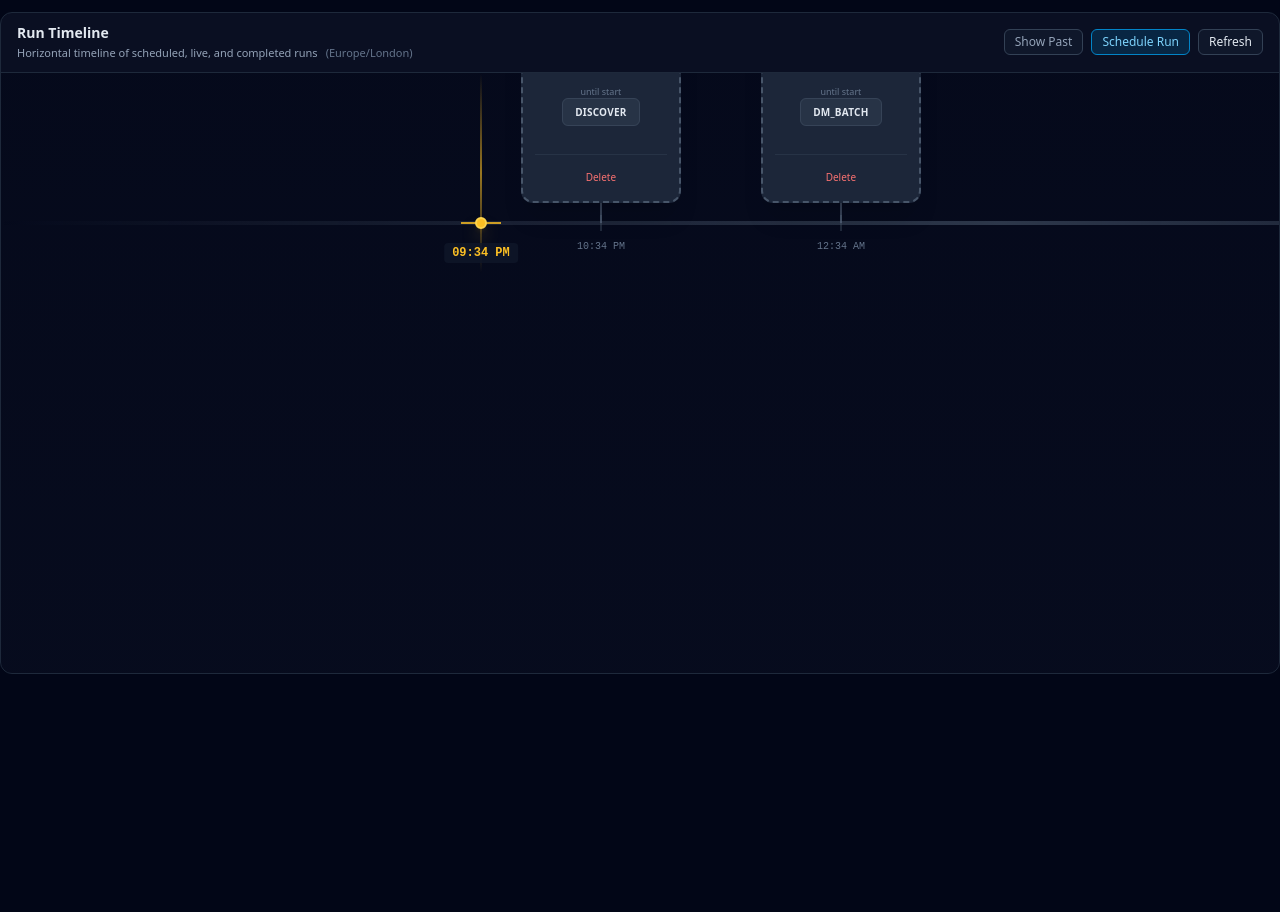
Test case: TimelineCarousel › Show Past Toggle › shows past runs when toggle is enabled
The width and height of the screenshot is (1280, 912).
Click the button "Show Past" at (1044, 42), box [1004, 29, 1083, 55]
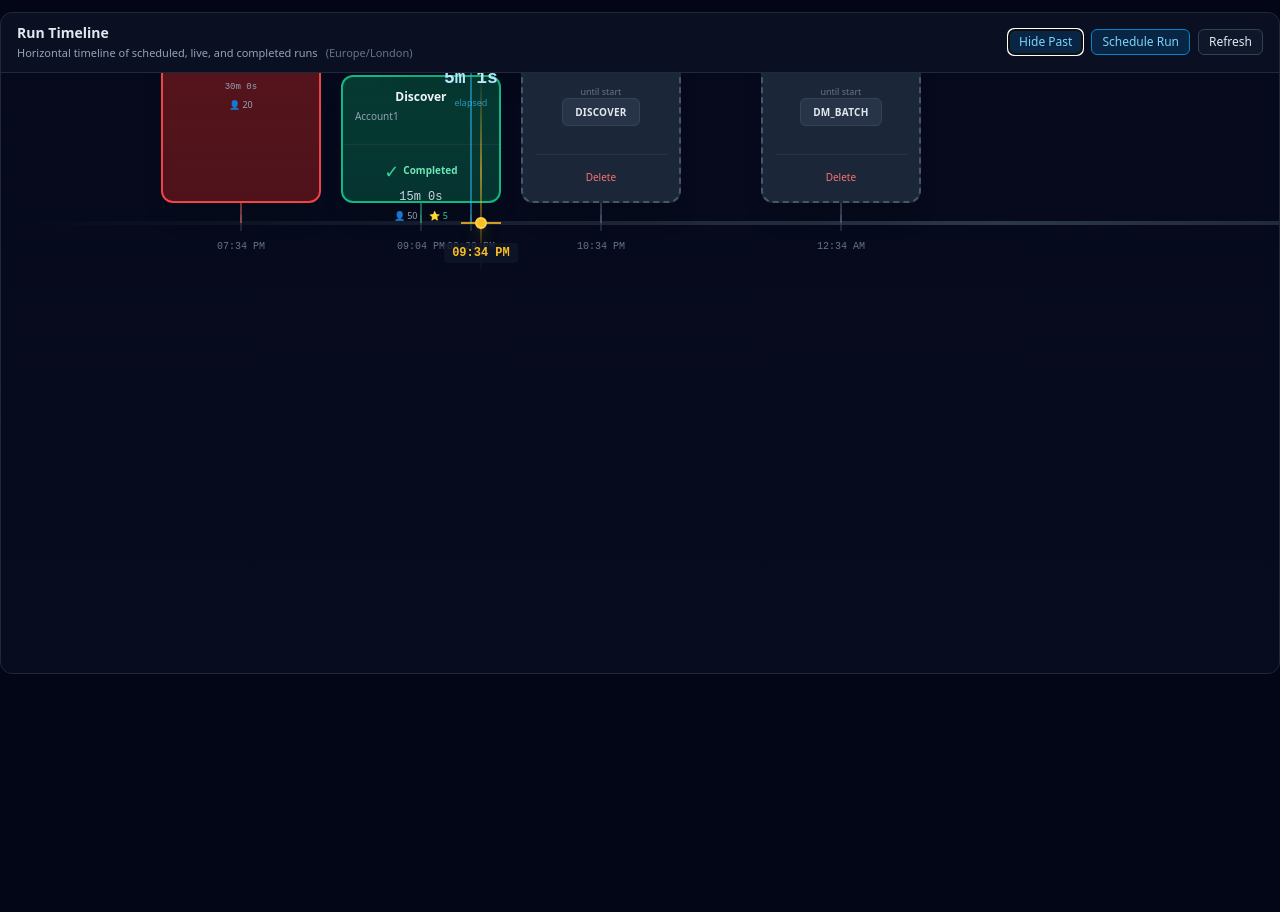
Check: the button "Hide Past" is shown, box [1008, 29, 1083, 55]
